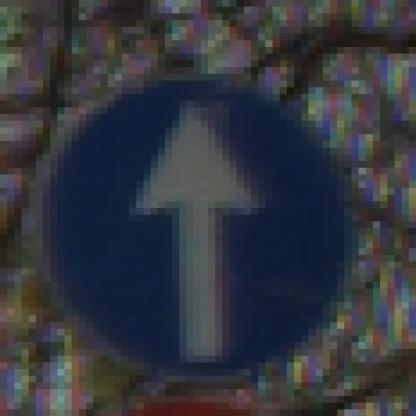AheadOnly: (37, 35, 381, 384)
